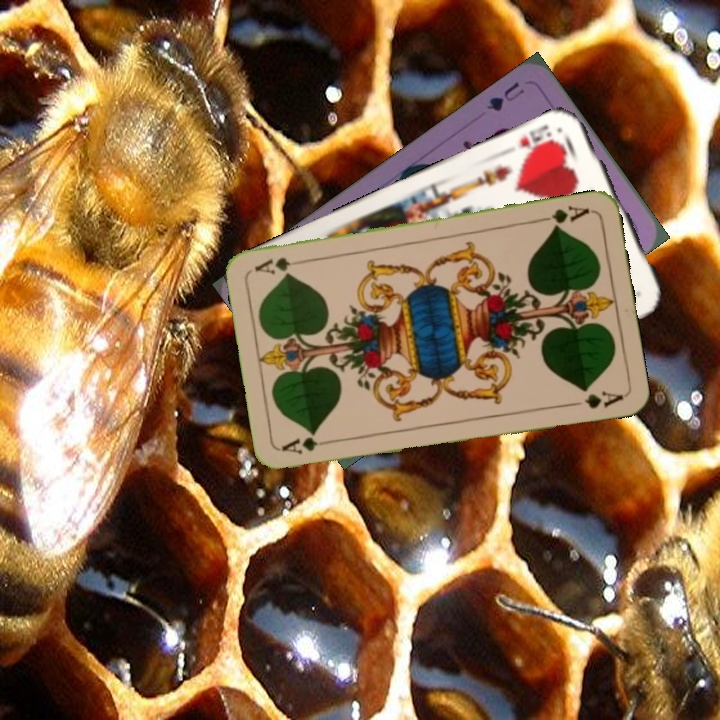GA: (535, 201, 592, 232), (278, 431, 337, 457)
GU: (482, 78, 527, 114)
HK: (515, 120, 561, 158)
